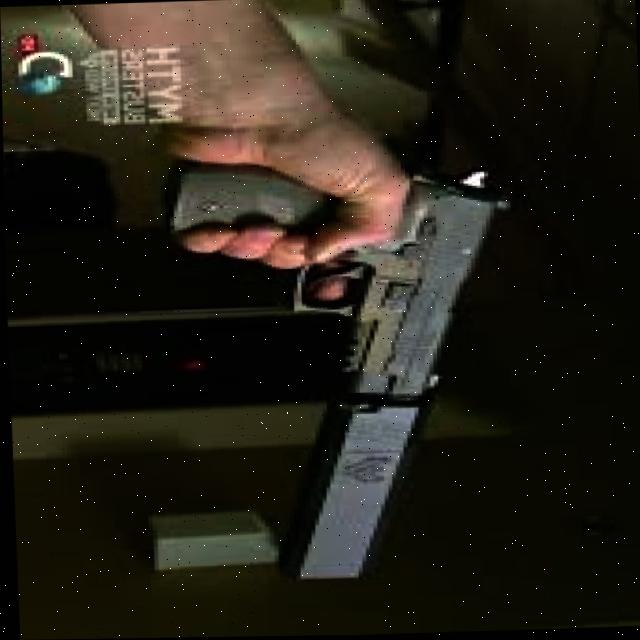pistol: (271, 163, 523, 583)
